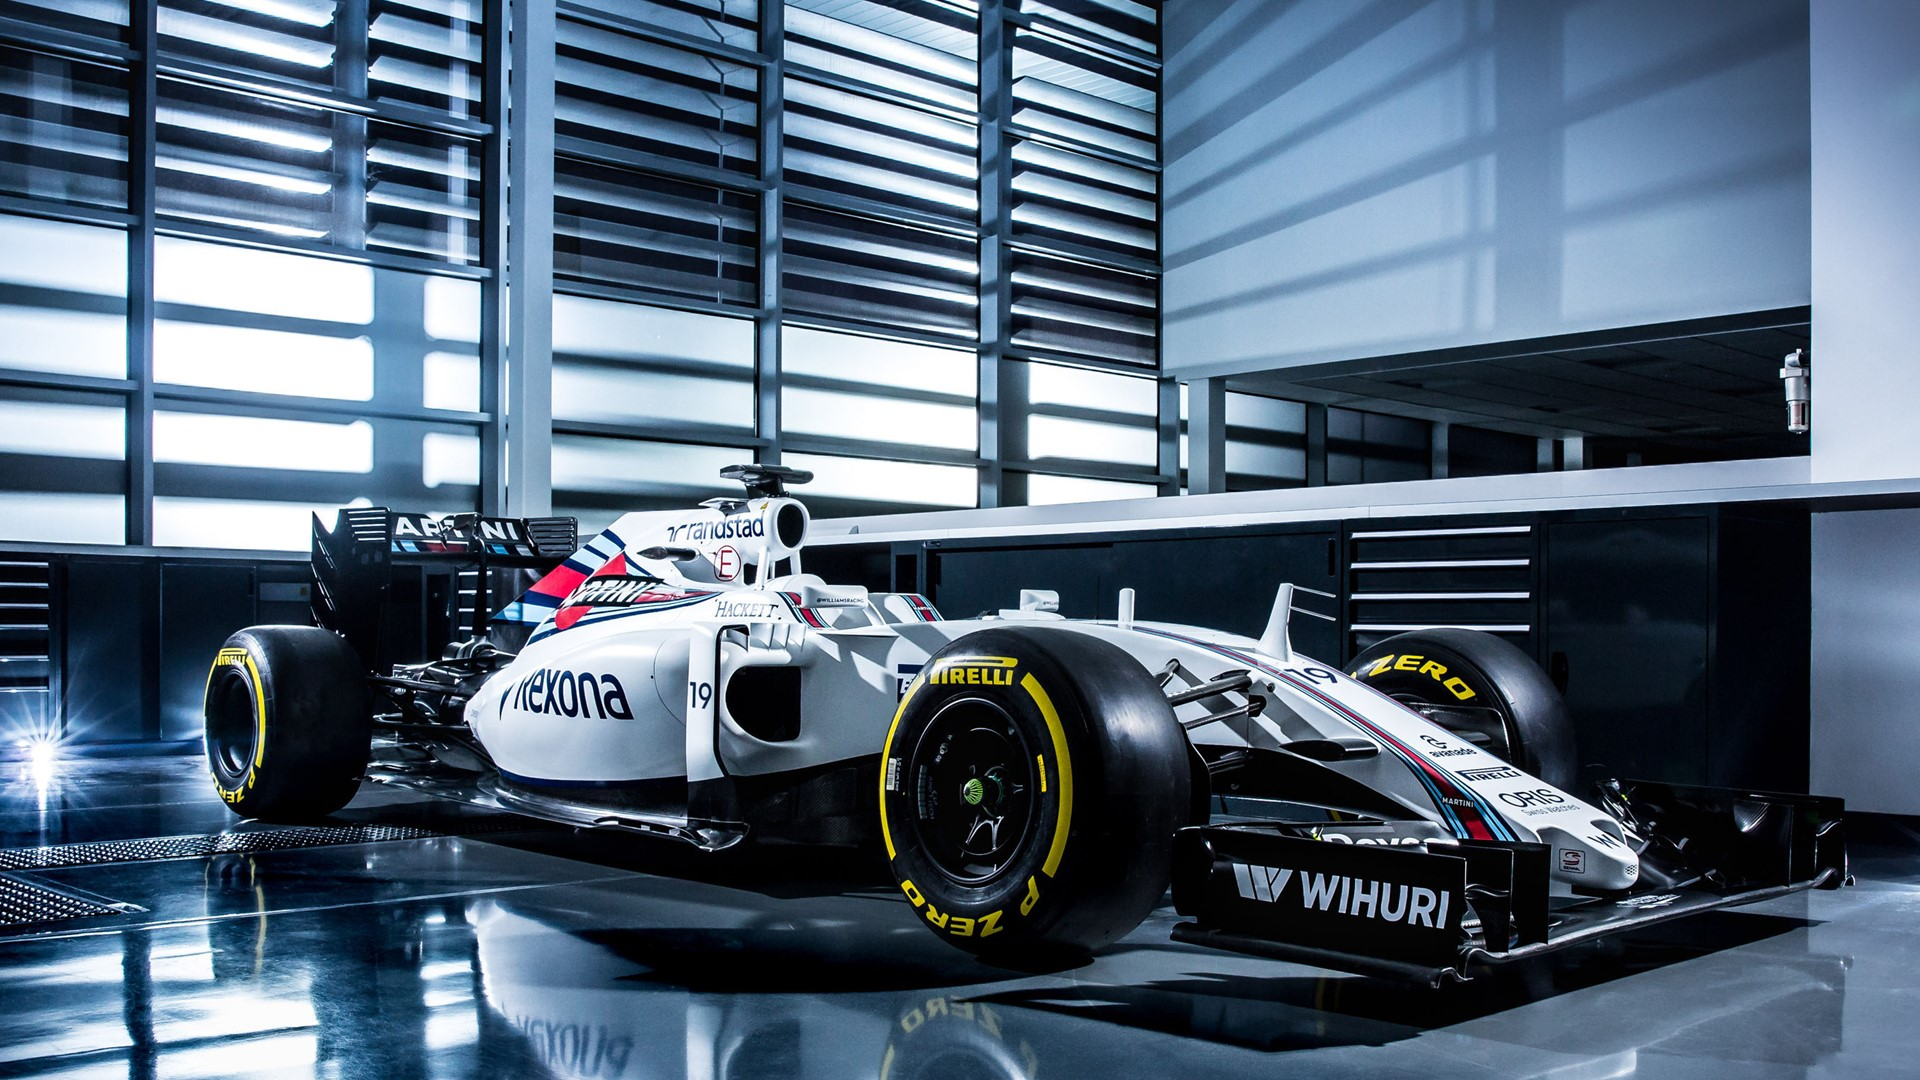f1_car: (179, 435, 1876, 1015)
